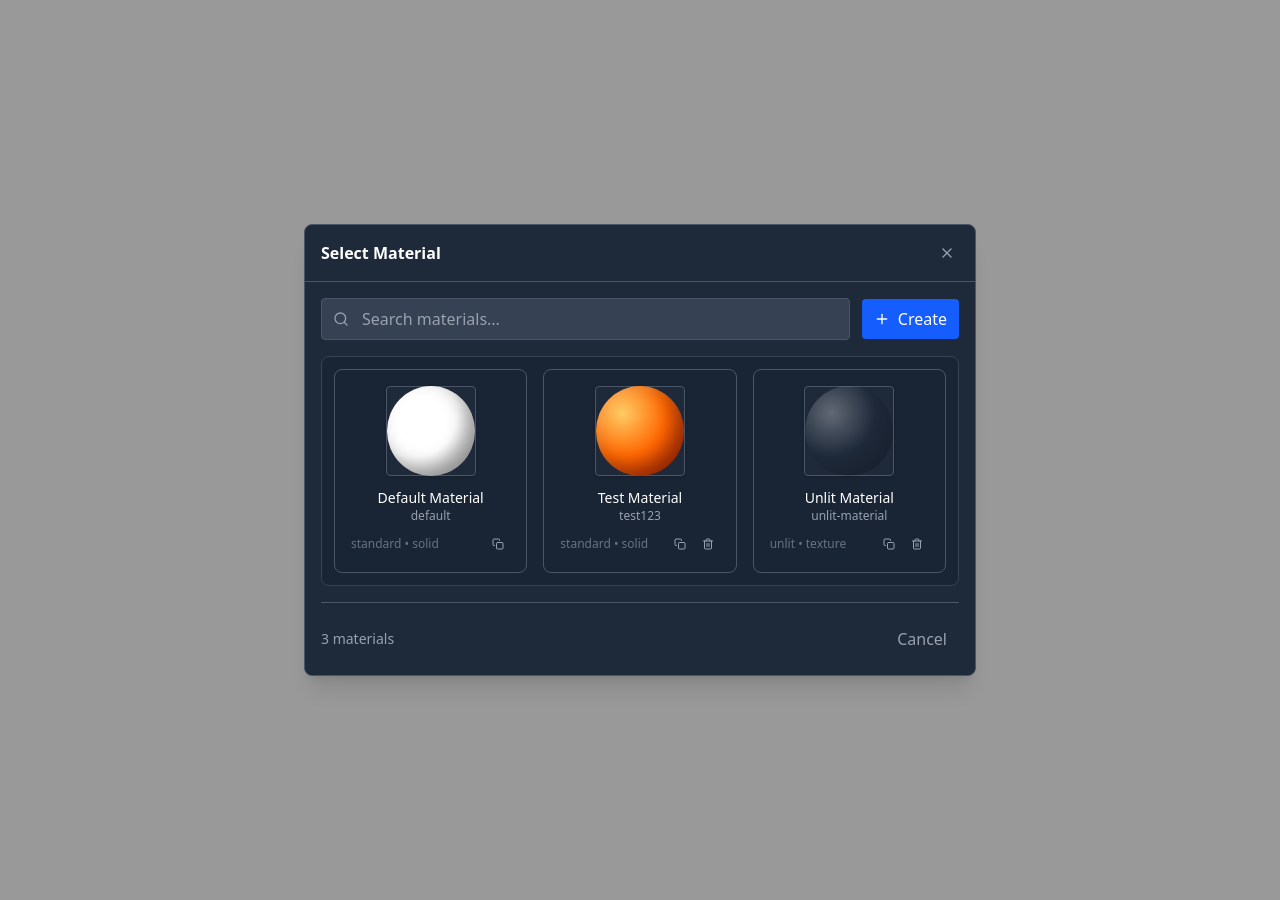
Test case: MaterialBrowserModal › search functionality › should show no materials message when search yields no results
In the field with placeholder "Search materials...": [585, 319] box [321, 298, 850, 340], type "nonexistent"
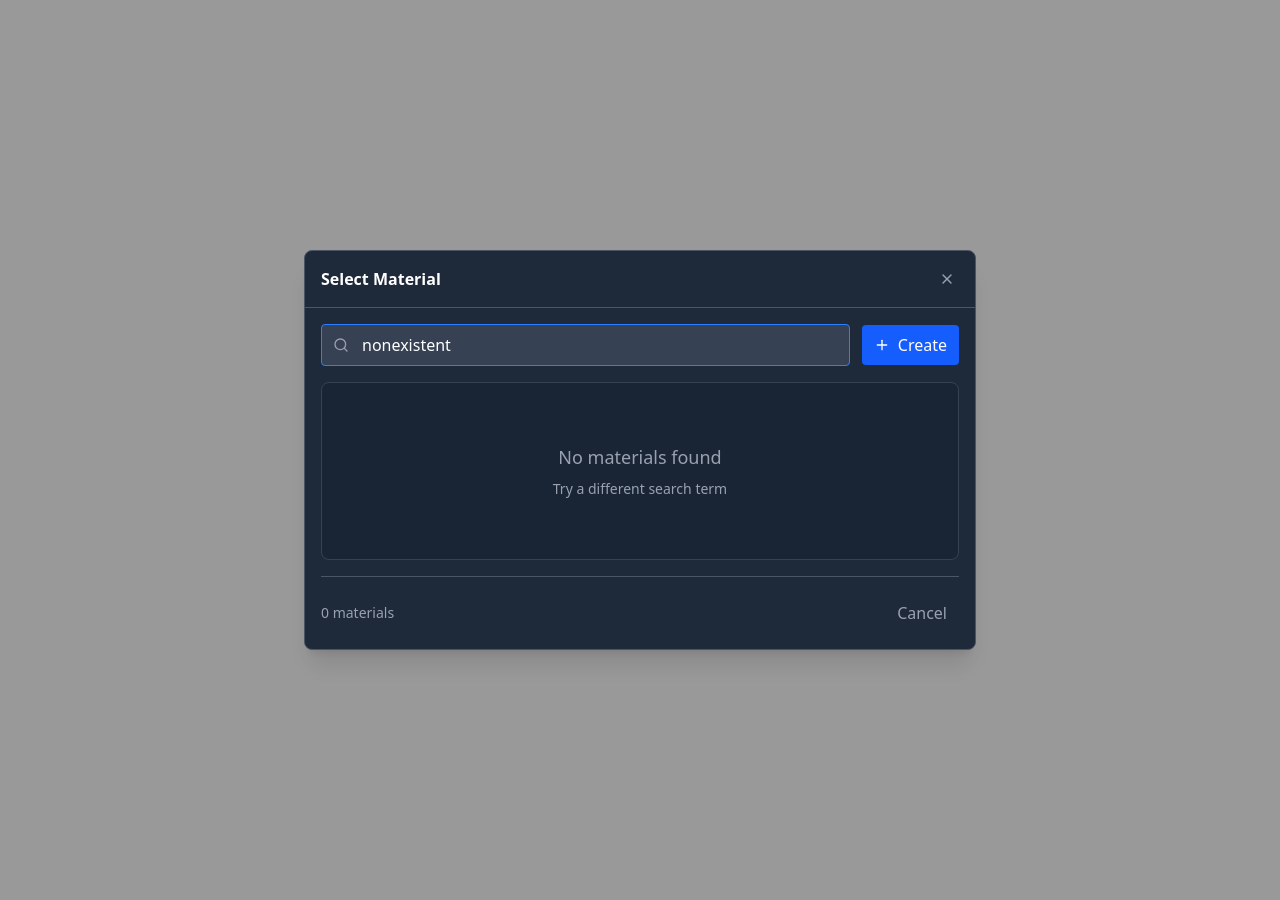
Expected: the text "No materials found" is shown, [558, 445, 722, 469]
Expected: the text "Try a different search term" is shown, [553, 479, 727, 498]
